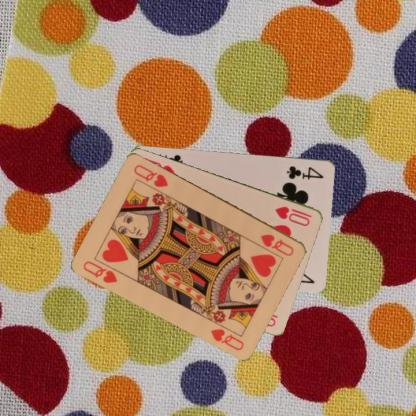10h: (273, 203, 313, 228)
4c: (284, 163, 324, 181)
Qh: (258, 231, 296, 258), (81, 258, 119, 284)
